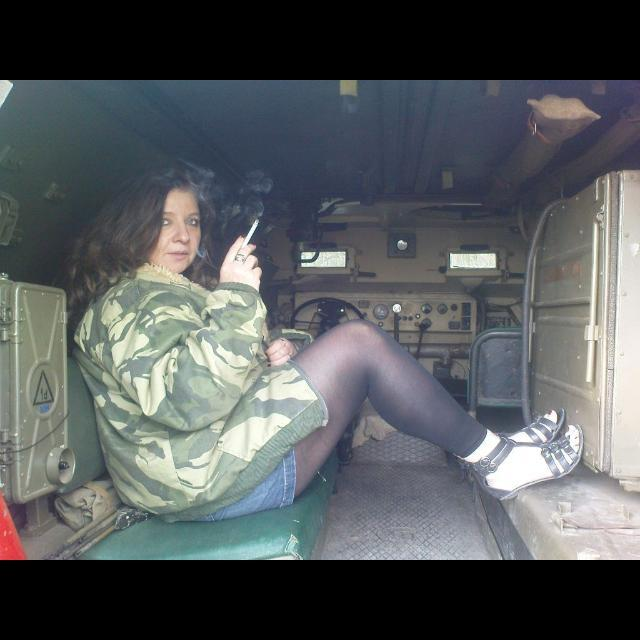rokok: (240, 214, 262, 246)
